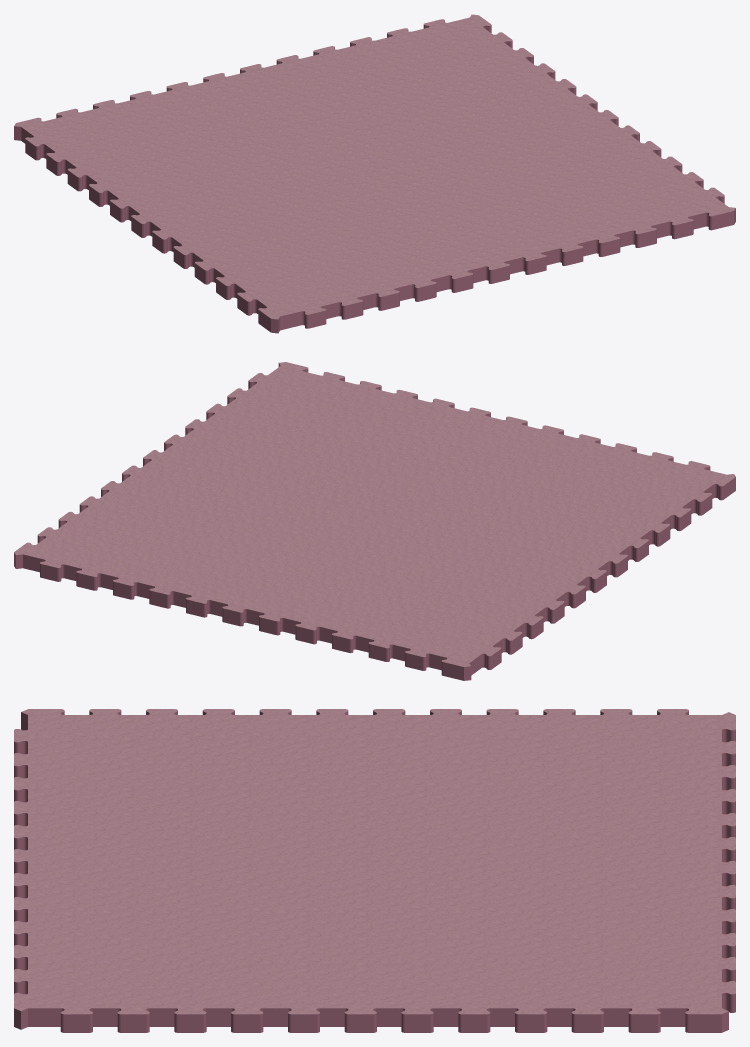
3 renders of one model, top to bottom at view 1: azimuth 30°, elevation 25°; view 2: azimuth 150°, elevation 25°; view 3: azimuth 270°, elevation 25°, orthographic. The views are drawn at different scales.
Parts seen in each view (by area): view 1: Mesh2_Tatami_black_0, Mesh3_Material4_0; view 2: Mesh2_Tatami_black_0, Mesh3_Material4_0; view 3: Mesh2_Tatami_black_0, Mesh3_Material4_0.
Boxes of the visible parts, bbox=[...] form: Mesh2_Tatami_black_0: bbox=[14, 14, 735, 319]; Mesh3_Material4_0: bbox=[14, 21, 735, 333]; Mesh2_Tatami_black_0: bbox=[14, 362, 735, 666]; Mesh3_Material4_0: bbox=[14, 363, 735, 680]; Mesh2_Tatami_black_0: bbox=[14, 709, 735, 1014]; Mesh3_Material4_0: bbox=[14, 711, 735, 1032].
Size of the model in its own units: 0.00998 by 0.000285 by 0.00998.
Materials: 2 (1 with a texture image).
